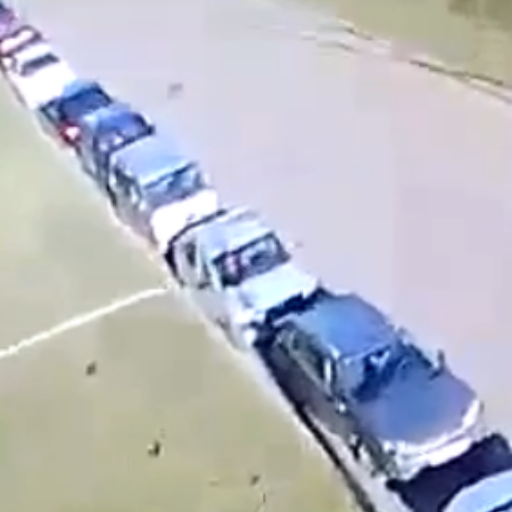Car: (270, 289, 492, 478), (173, 210, 326, 348), (103, 136, 227, 249), (2, 42, 78, 110), (79, 105, 147, 173), (57, 78, 112, 140)
